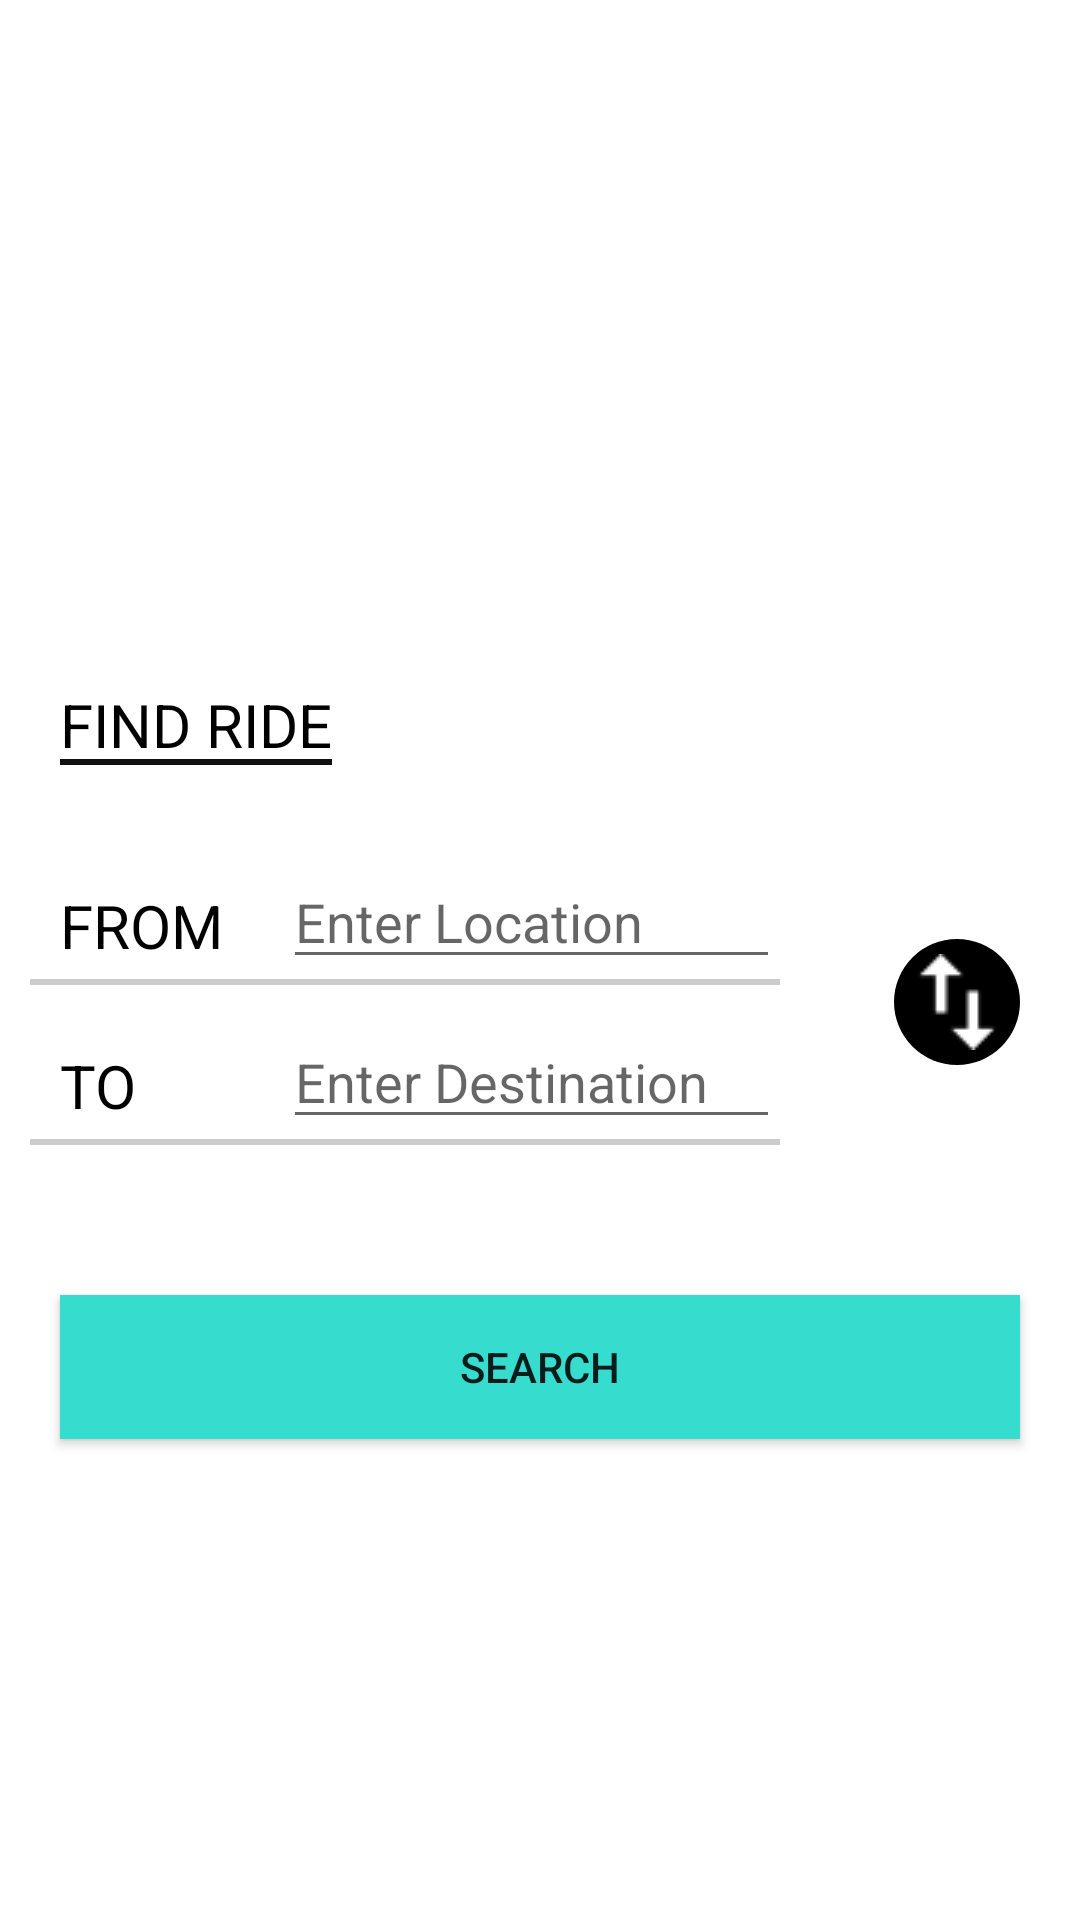

Point at icon controls on the screen. Image size 1080px×1920px, points as (x,y).
switc: (957,1002)
